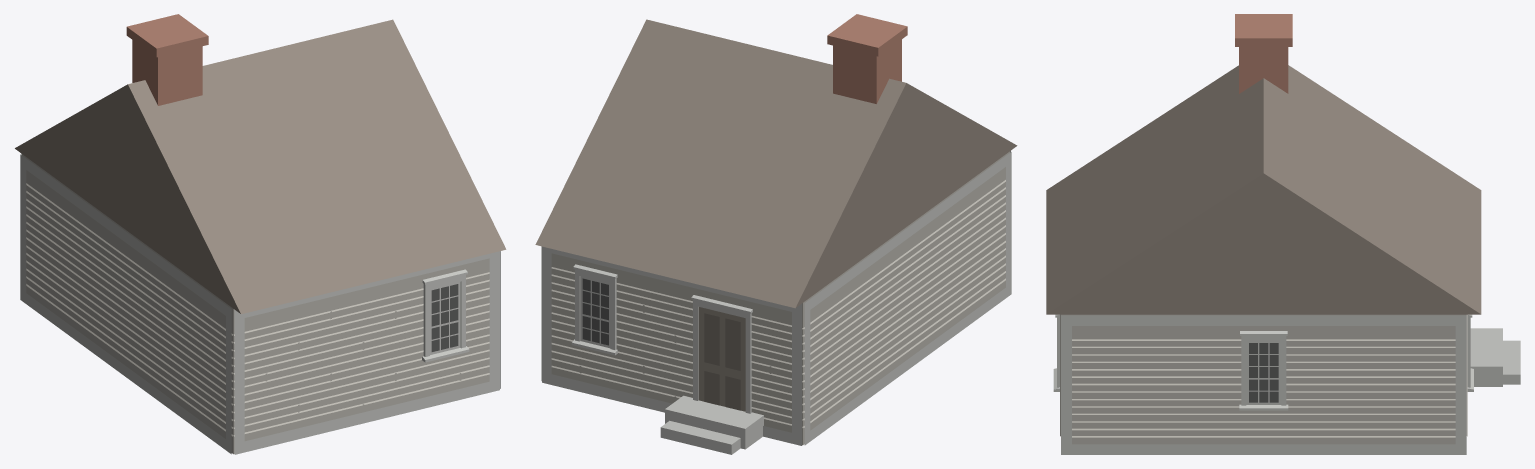
The model's file is recon_1835_blk_randolph_clinton_d3_04__inferred_1835.glb.
3 views of the same model, side by side, from view 1: azimuth 30°, elevation 25°; view 2: azimuth 150°, elevation 25°; view 3: azimuth 270°, elevation 25° (orthographic). The views are drawn at different scales.
Visible parts, largest first — view 1: recon_1835_blk_randolph_clinton_d3_04__inferred_1835; view 2: recon_1835_blk_randolph_clinton_d3_04__inferred_1835; view 3: recon_1835_blk_randolph_clinton_d3_04__inferred_1835.
Boxes of the visible parts, x1,y1,x2,y2 form: recon_1835_blk_randolph_clinton_d3_04__inferred_1835: (15,14,506,454); recon_1835_blk_randolph_clinton_d3_04__inferred_1835: (535,14,1017,454); recon_1835_blk_randolph_clinton_d3_04__inferred_1835: (1046,14,1520,454).
Bounding box in the file's own units: 5.16 × 6.05 × 8.08.
